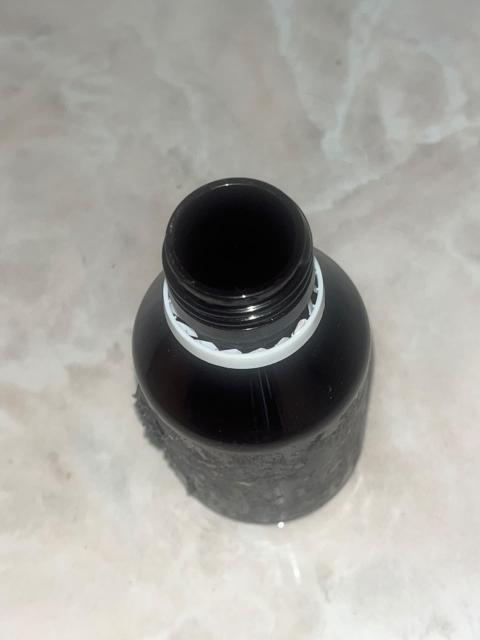HDPE: (81, 157, 412, 557)
